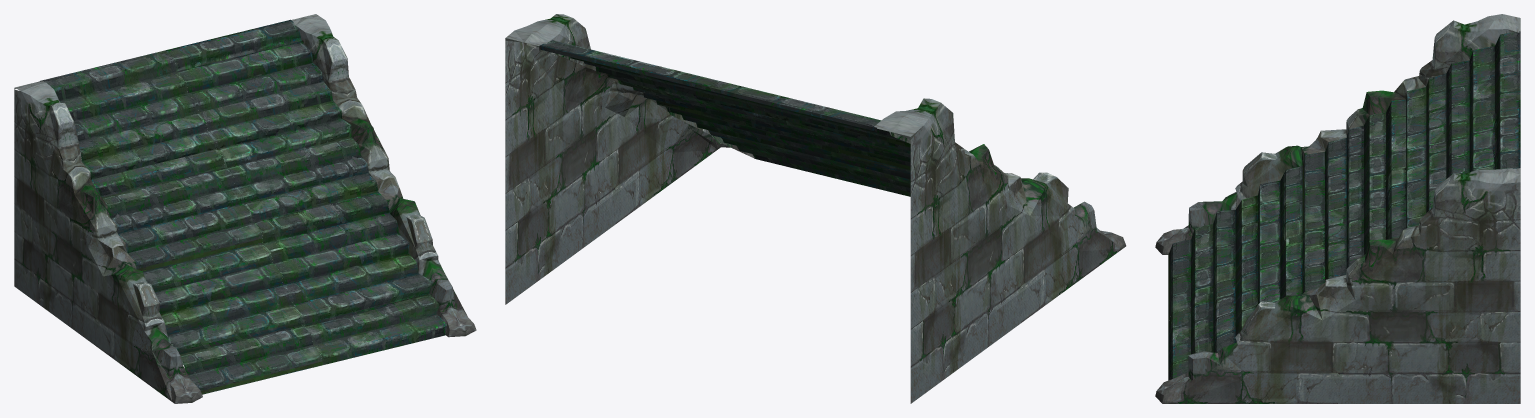
File: stemple_wall_stair_02.fbx
3 views of the same model, side by side, from view 1: azimuth 30°, elevation 25°; view 2: azimuth 150°, elevation 25°; view 3: azimuth 270°, elevation 25° (orthographic). The views are drawn at different scales.
Parts seen in each view (by area): view 1: obj1.044; view 2: obj1.044; view 3: obj1.044.
Boxes of the visible parts, box(x1,y1,x2,y2) form: obj1.044: box(14, 14, 476, 403); obj1.044: box(505, 14, 1126, 403); obj1.044: box(1155, 14, 1520, 403).
Size of the model in its own units: 8.91 by 5.69 by 8.3.
